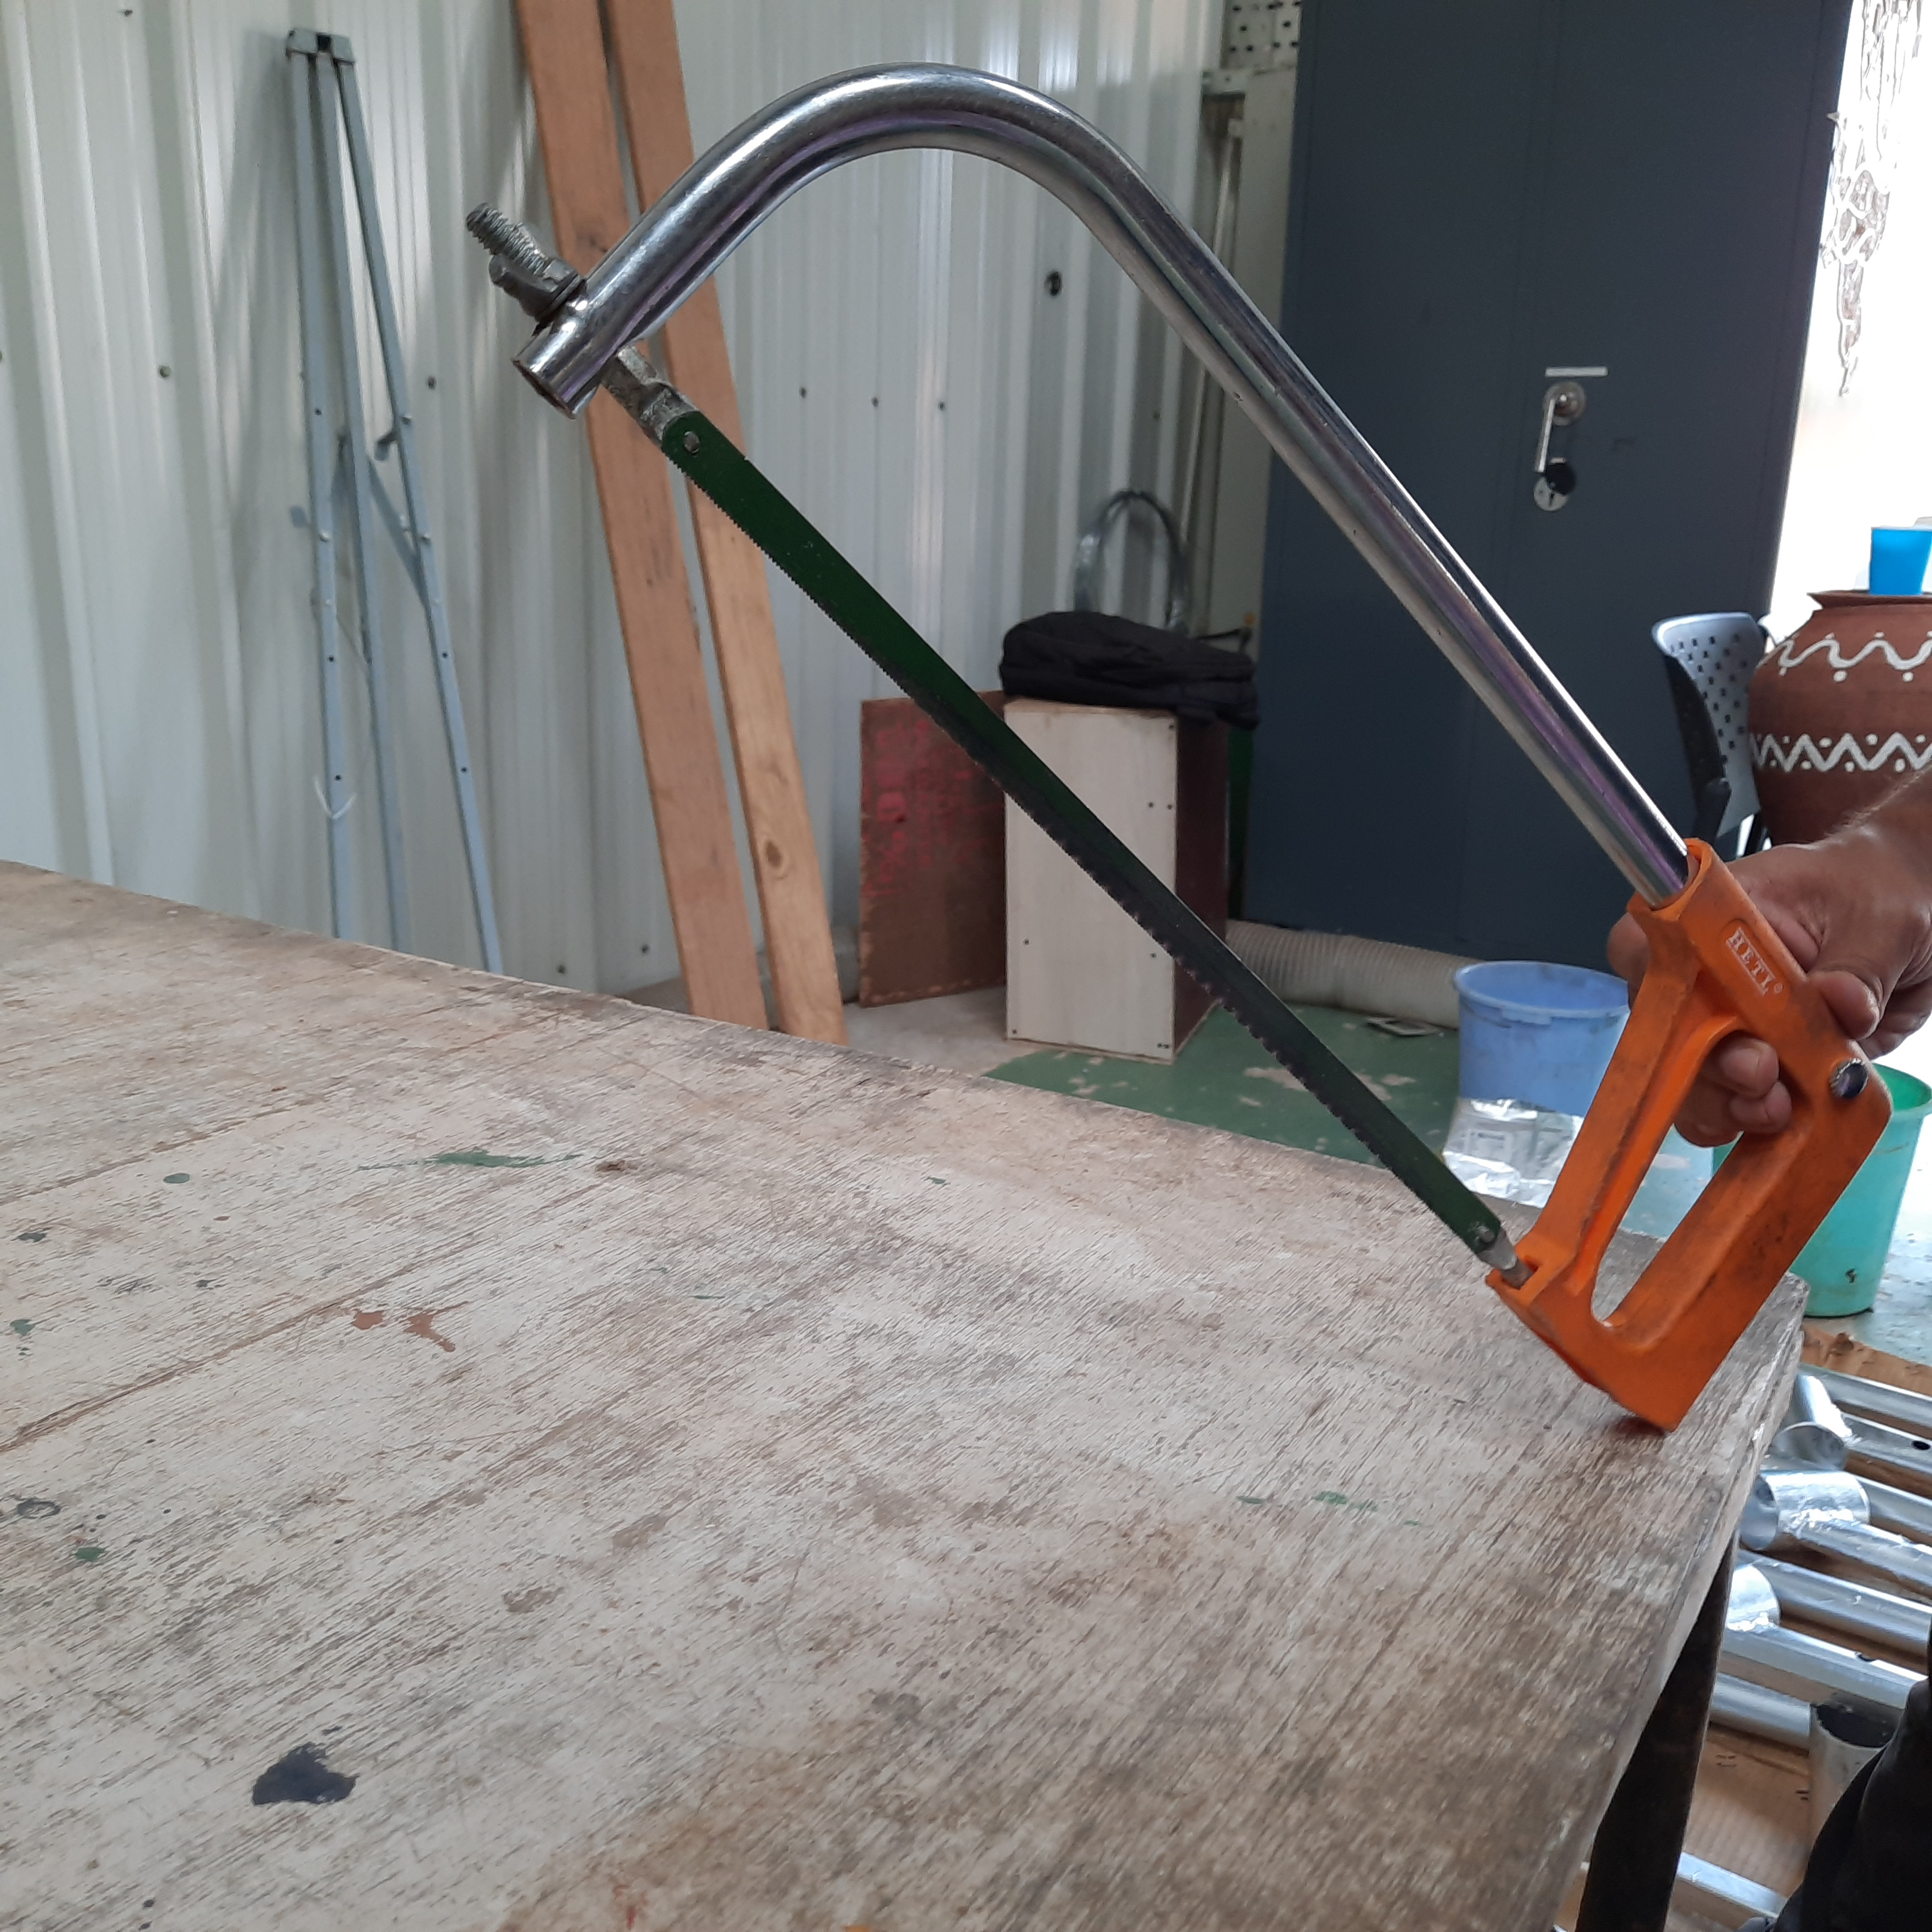Hexaframe: (456, 53, 1902, 1495)
